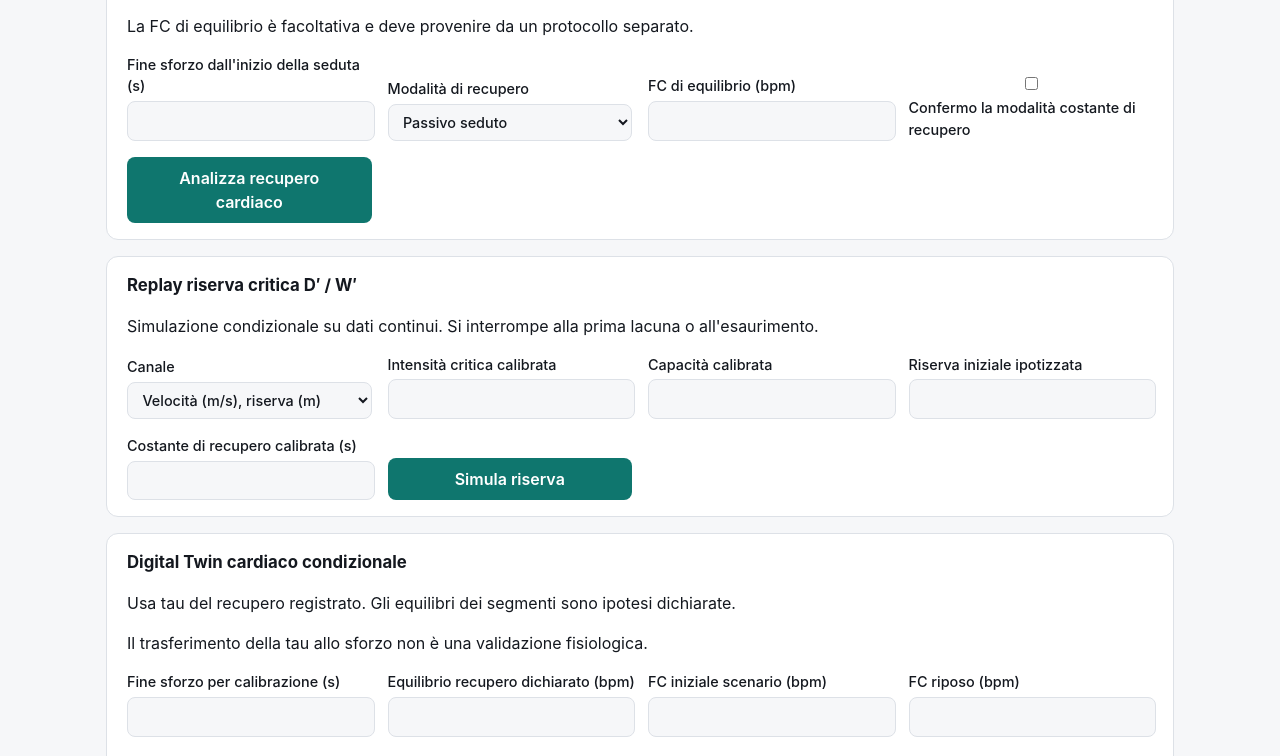
Test: replay riserva › usa parametri espliciti e mostra la fine del supporto
(page scrolled)
Select "Potenza (W), riserva (J)" in the dropdown labelled "Canale" at (249, 400), box [127,382,372,419]
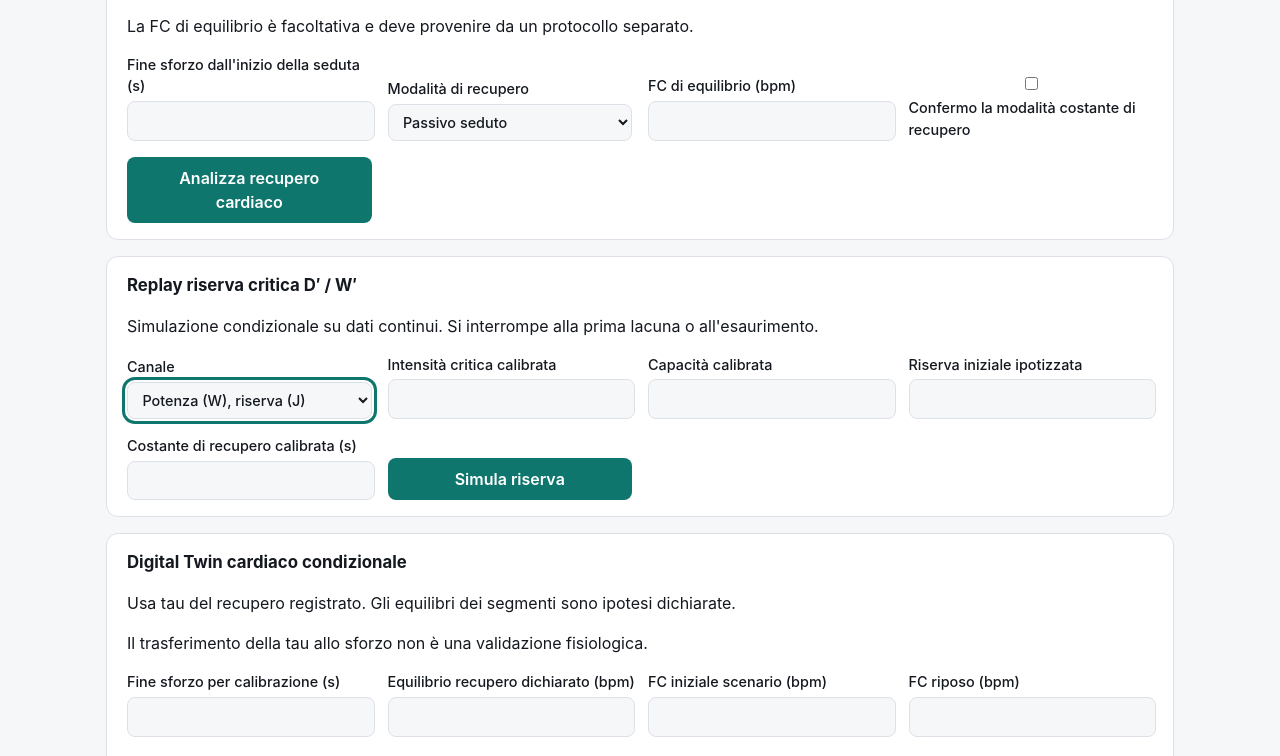
Type "300" into the number field labelled "Intensità critica calibrata" at (511, 399), box [388,380,635,419]
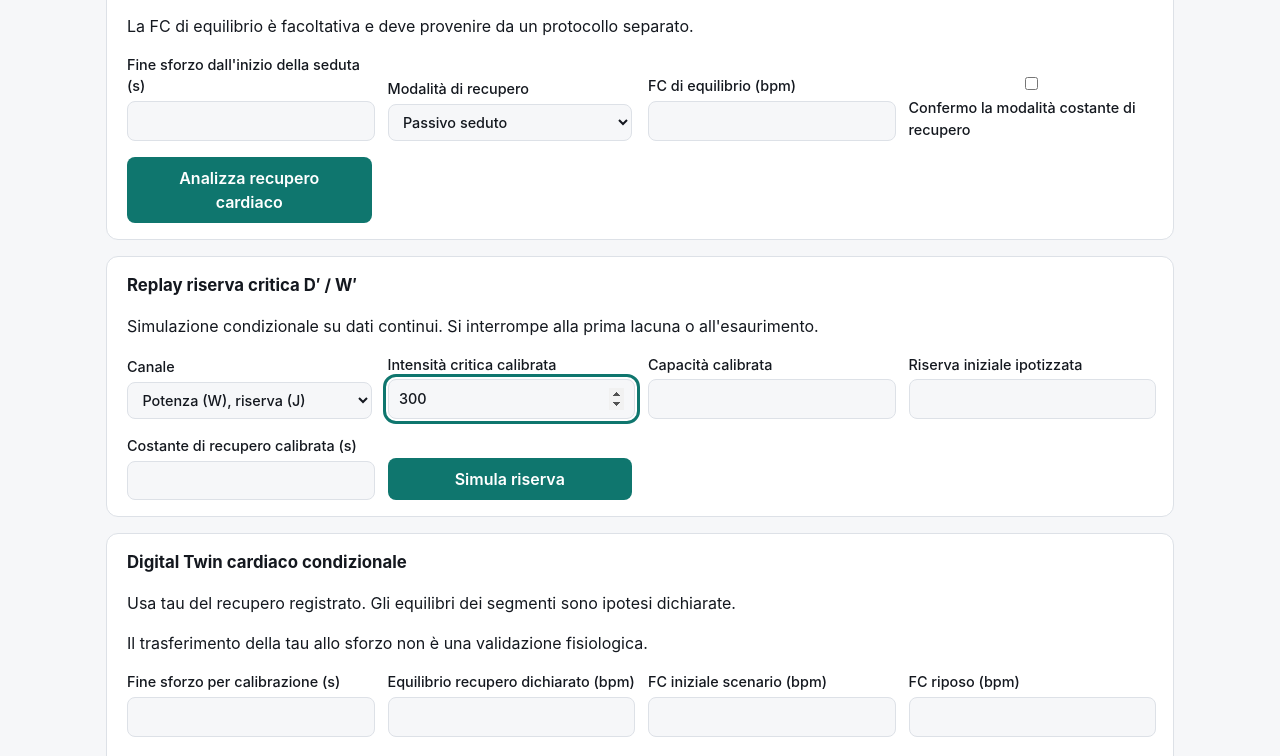
Type "1000" into the number field labelled "Capacità calibrata" at (772, 399), box [648,380,896,419]
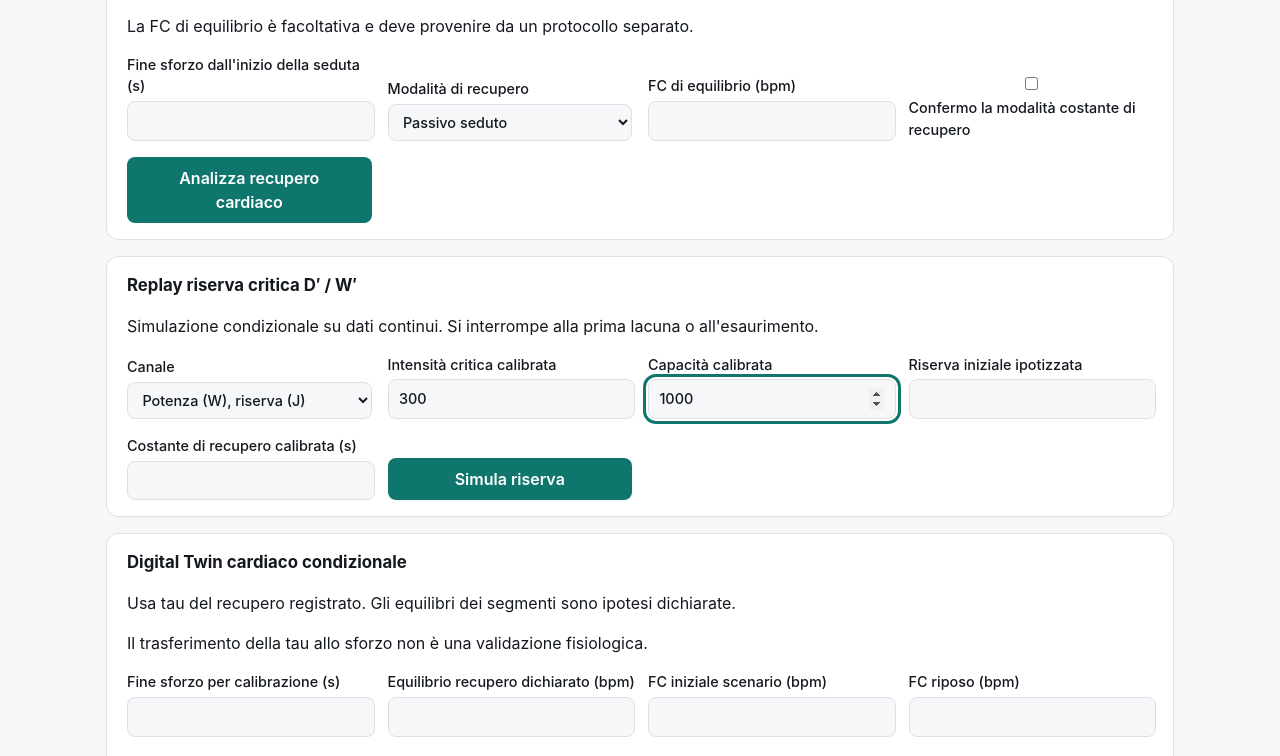
Type "1000" into the number field labelled "Riserva iniziale ipotizzata" at (1032, 399), box [908,380,1156,419]
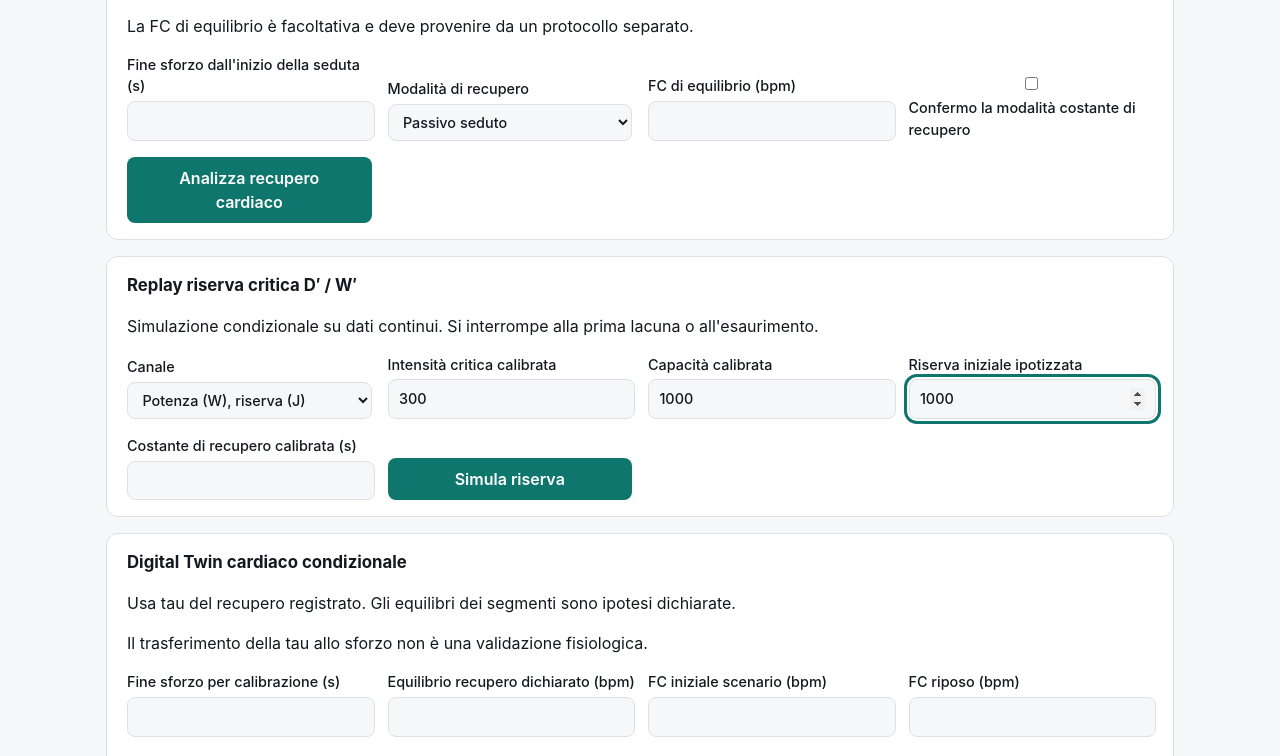
Type "60" into the number field labelled "Costante di recupero calibrata (s)" at (251, 480), box [127,461,375,500]
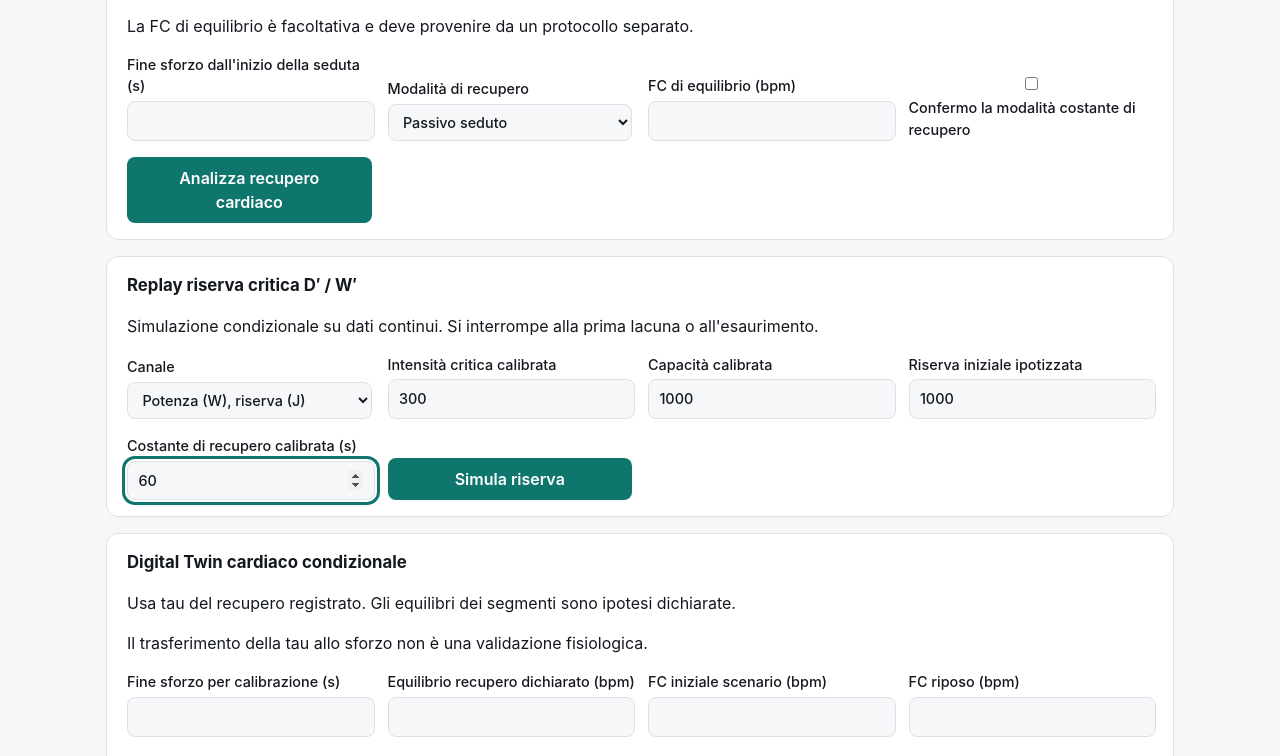
Click the button "Simula riserva" at (510, 479), box [388,458,632,500]
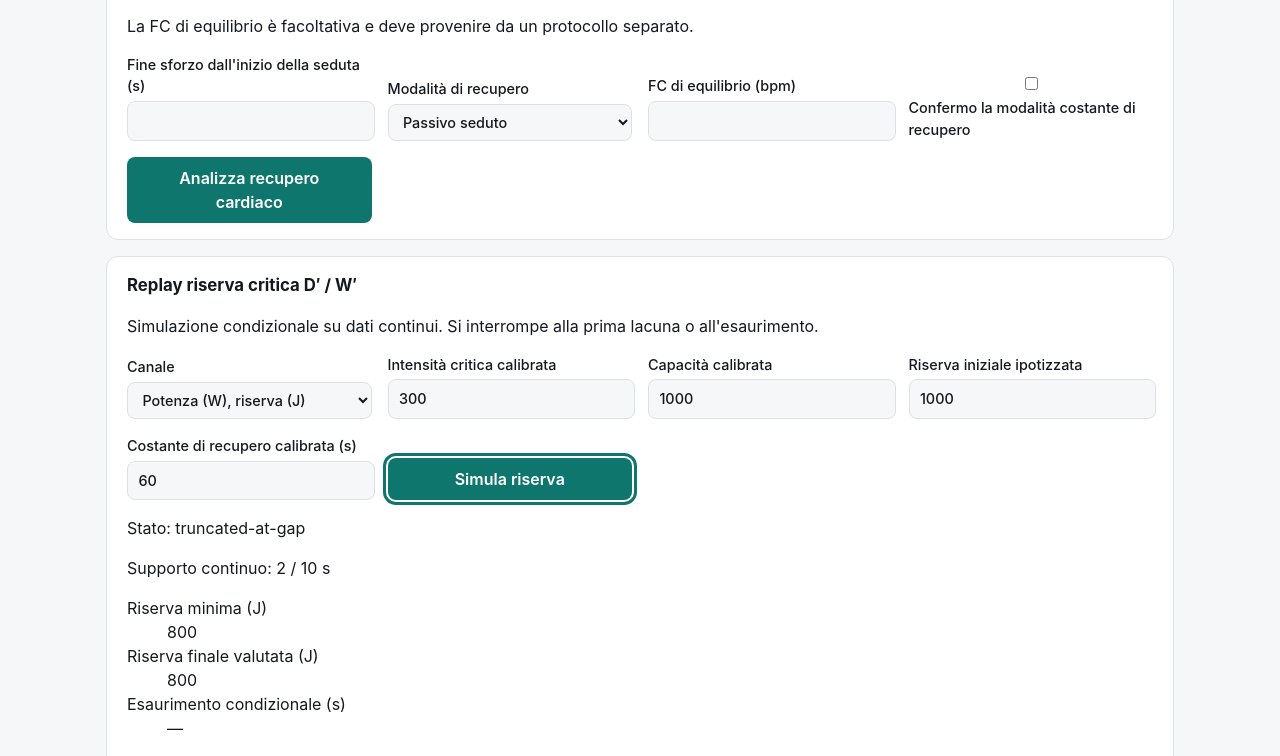
Now the text "Stato: truncated-at-gap" is shown, box [127,518,305,538]
Now the text "Supporto continuo: 2 / 10 s" is shown, box [127,558,330,578]
